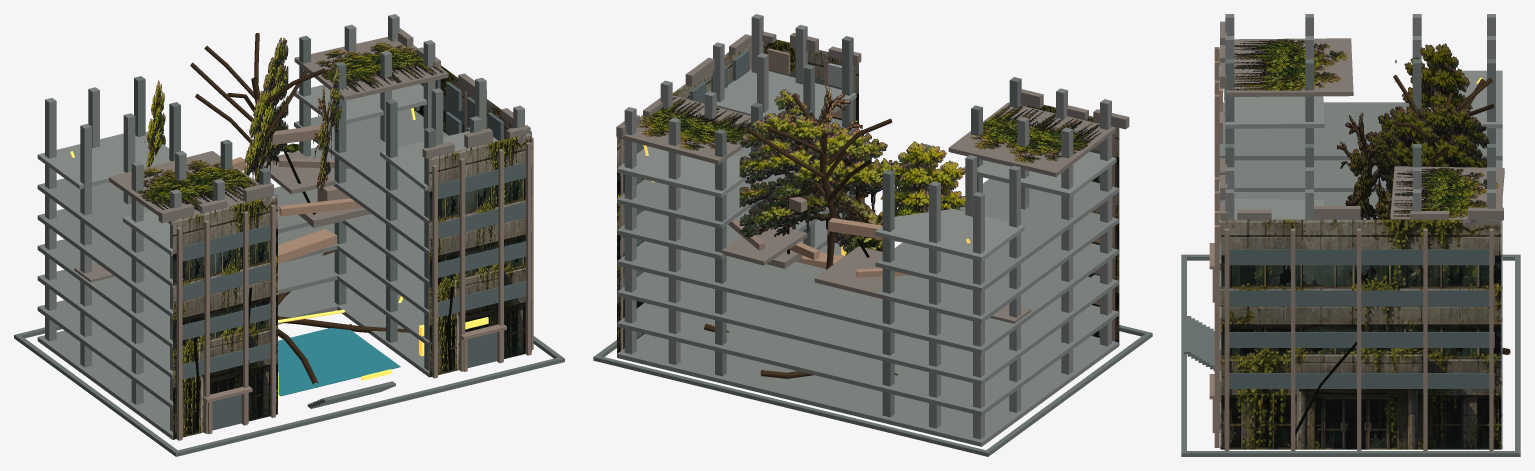
Rendered from rainwater-control-tower.landmark.visual-DzJgEplT.glb.
The picture shows the model from 3 angles, left to right: view 1: azimuth 30°, elevation 25°; view 2: azimuth 150°, elevation 25°; view 3: azimuth 270°, elevation 25°; orthographic projection. The views are drawn at different scales.
Parts seen in each view (by area): view 1: LANDMARK_GN_BAY_FRAME, LANDMARK_GN_RUNOFF_GROWTH, LANDMARK_GN_FACADE_INFILL, LANDMARK_GN_CISTERN_WATER, LANDMARK_GN_CAUSAL_BREACH; view 2: LANDMARK_GN_BAY_FRAME, LANDMARK_GN_RUNOFF_GROWTH, LANDMARK_GN_FACADE_INFILL, LANDMARK_GN_CAUSAL_BREACH; view 3: LANDMARK_GN_RUNOFF_GROWTH, LANDMARK_GN_BAY_FRAME, LANDMARK_GN_FACADE_INFILL.
Part boxes in pixels (x1,y1,x2,y2): LANDMARK_GN_BAY_FRAME: [14, 14, 564, 456]; LANDMARK_GN_RUNOFF_GROWTH: [136, 33, 531, 439]; LANDMARK_GN_FACADE_INFILL: [176, 79, 533, 440]; LANDMARK_GN_CISTERN_WATER: [278, 328, 400, 396]; LANDMARK_GN_CAUSAL_BREACH: [232, 125, 362, 263]; LANDMARK_GN_BAY_FRAME: [593, 14, 1152, 456]; LANDMARK_GN_RUNOFF_GROWTH: [617, 39, 1119, 378]; LANDMARK_GN_FACADE_INFILL: [620, 44, 1115, 350]; LANDMARK_GN_CAUSAL_BREACH: [728, 180, 910, 277]; LANDMARK_GN_RUNOFF_GROWTH: [1221, 39, 1510, 449]; LANDMARK_GN_BAY_FRAME: [1181, 14, 1520, 456]; LANDMARK_GN_FACADE_INFILL: [1209, 47, 1494, 450].
Size of the model in its own units: 341 by 225 by 246.
Materials: 5 (1 with a texture image).
